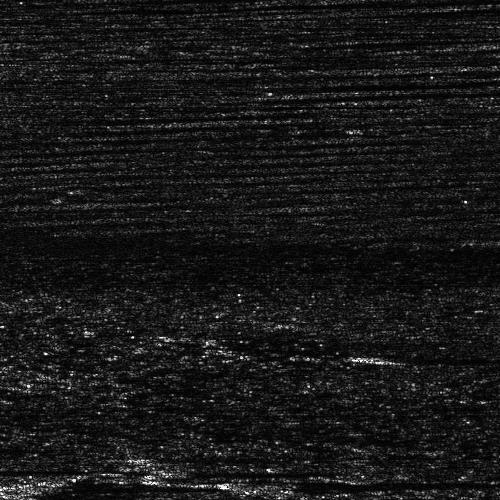rock: (133, 474, 414, 495), (319, 352, 424, 363), (129, 466, 212, 475), (102, 454, 185, 461)
shadow: (274, 474, 500, 495), (171, 466, 348, 475), (372, 352, 500, 363), (0, 484, 146, 491), (0, 464, 112, 471), (144, 454, 231, 461), (0, 441, 33, 452)
